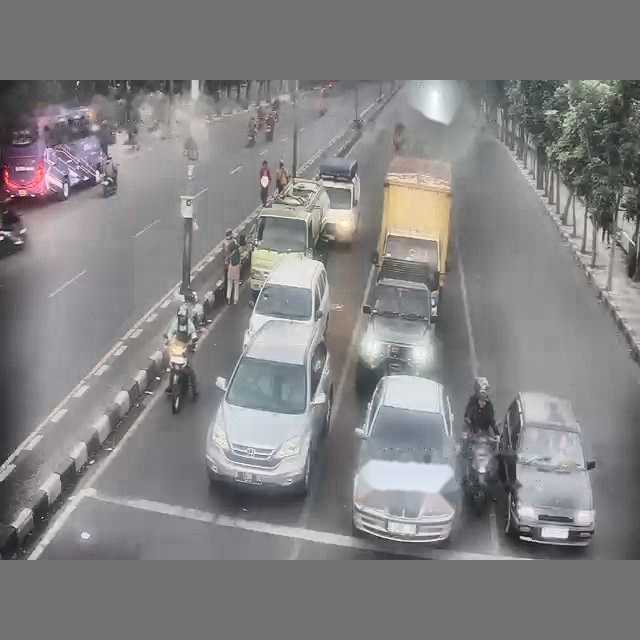Bis: (0, 106, 104, 199)
Mobil: (206, 320, 333, 495), (352, 375, 461, 542), (499, 392, 594, 546), (355, 278, 441, 396), (243, 255, 329, 346), (318, 157, 360, 243)
Motor: (462, 434, 496, 514), (168, 339, 192, 413), (101, 177, 117, 197), (265, 119, 273, 141), (247, 127, 256, 146)
Truk: (372, 155, 451, 322)
